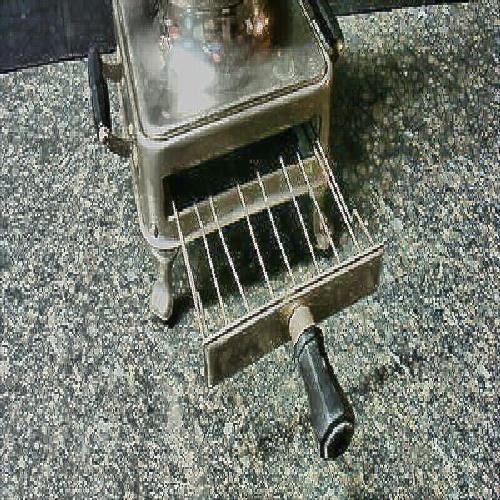toaster: (117, 8, 390, 461)
